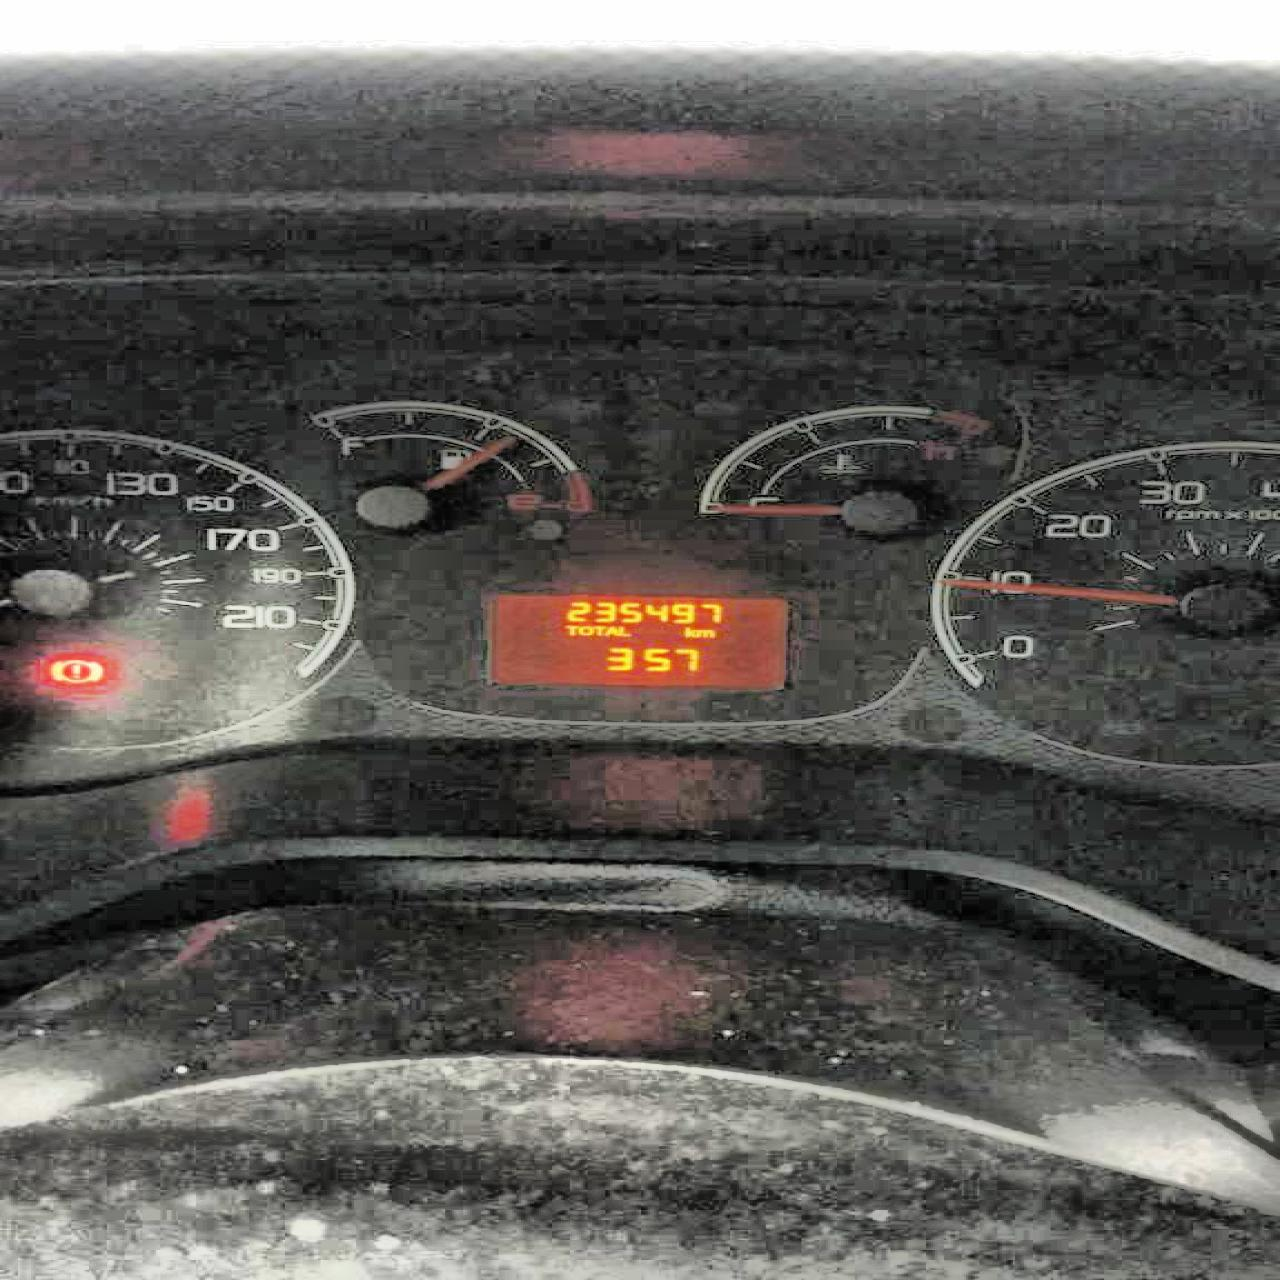2: (565, 600, 587, 621)
3: (602, 647, 632, 672), (592, 600, 614, 622)
4: (644, 601, 666, 624)
5: (641, 645, 670, 670), (617, 600, 641, 624)
7: (673, 647, 699, 672), (699, 601, 723, 625)
9: (669, 601, 693, 624)
X: (694, 627, 715, 638), (617, 625, 634, 636), (564, 624, 577, 636), (592, 625, 606, 635), (604, 625, 617, 635), (577, 625, 590, 635), (683, 625, 693, 638)
odometer: (492, 592, 788, 688)
